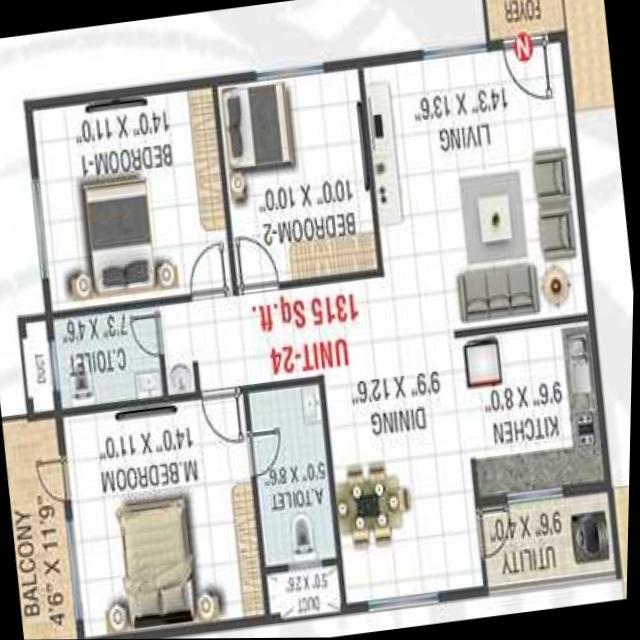Balcony-Sitout: (2, 410, 82, 640)
Bedroom: (26, 81, 234, 318), (215, 65, 381, 294)
Bedroom with Toilet: (60, 378, 341, 639)
Dining: (332, 460, 418, 555)
Enterance-Foyer: (485, 0, 566, 106)
Kitchen: (457, 313, 615, 509)
Living: (361, 31, 588, 336)
Toilet: (247, 382, 338, 566), (50, 304, 169, 409)
Utility: (478, 490, 623, 593)
